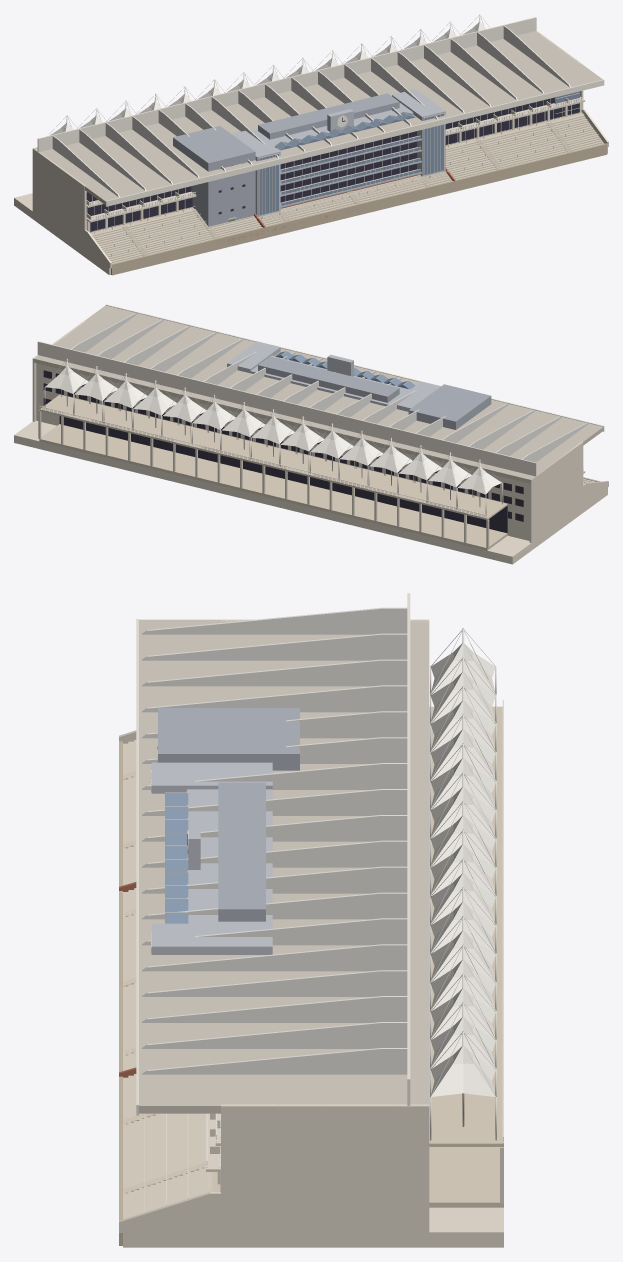
Rendered from sandown_stands_kit.glb.
3 renders of one model, top to bottom at view 1: azimuth 30°, elevation 25°; view 2: azimuth 150°, elevation 25°; view 3: azimuth 270°, elevation 25°, orthographic. The views are drawn at different scales.
Visible parts, largest first — view 1: sandown_main_stand, sandown_eclipse_stand; view 2: sandown_main_stand, sandown_eclipse_stand; view 3: sandown_main_stand, sandown_eclipse_stand.
Boxes of the visible parts, x1,y1,x2,y2 form: sandown_main_stand: (14,14,608,275); sandown_eclipse_stand: (173,89,455,243); sandown_main_stand: (14,304,608,564); sandown_eclipse_stand: (227,341,491,429); sandown_main_stand: (119,593,503,1247); sandown_eclipse_stand: (119,708,299,1077).
Bounding box in the file's own units: 169 × 28.67 × 56.6.
